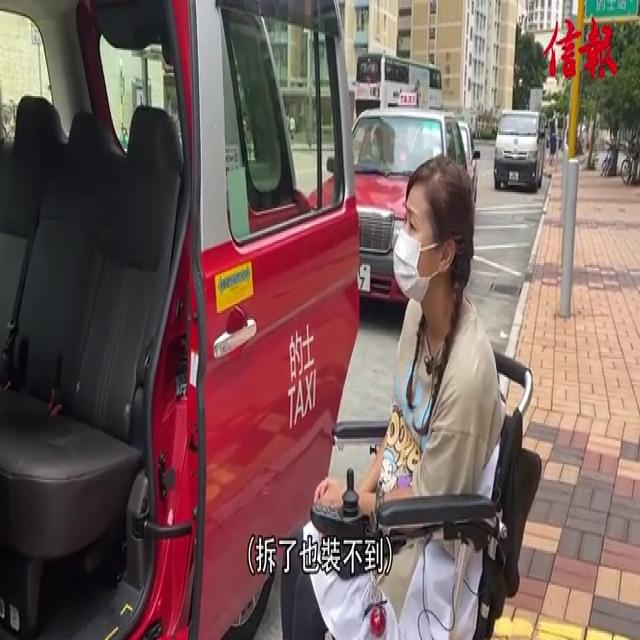wheelchairs: (283, 308, 550, 640)
